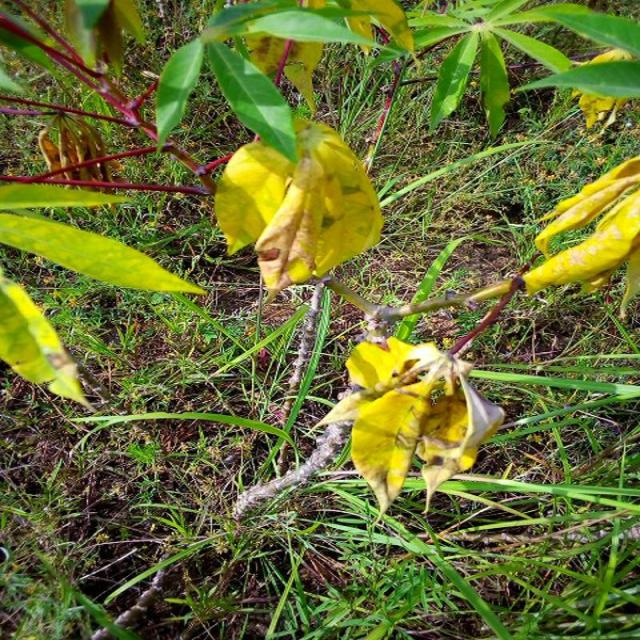cassava leaf: (311, 334, 505, 525), (213, 115, 384, 296), (0, 208, 206, 295)
